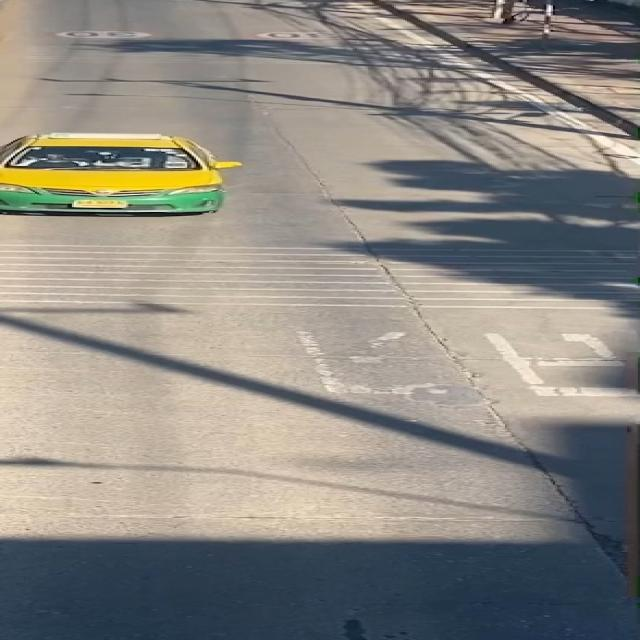car: (0, 118, 252, 231)
